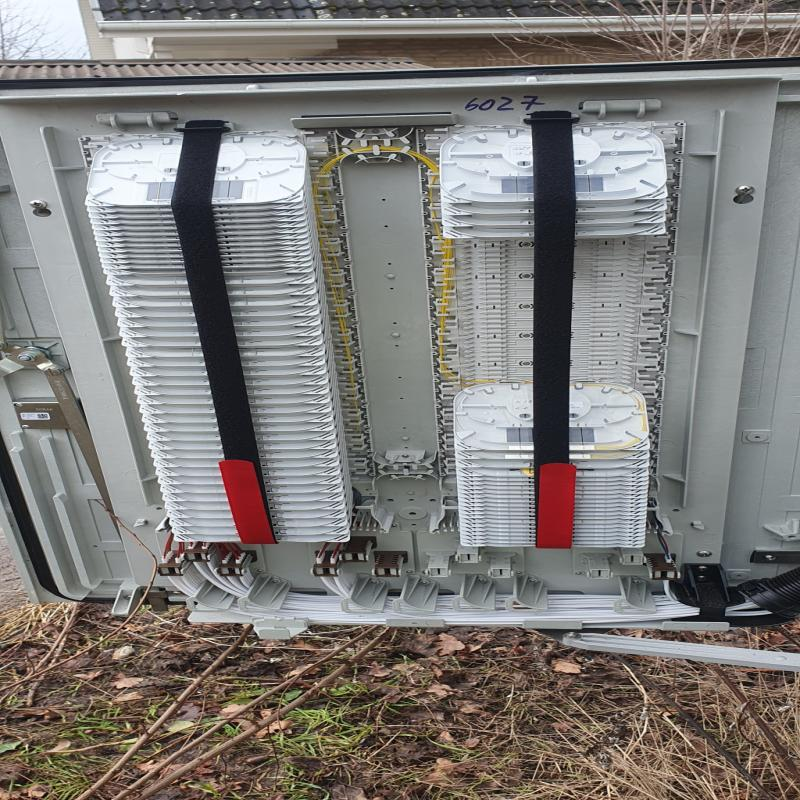NT-Gehause: (8, 54, 793, 631)
Spleiskassetten: (47, 116, 383, 558), (425, 112, 698, 557)
